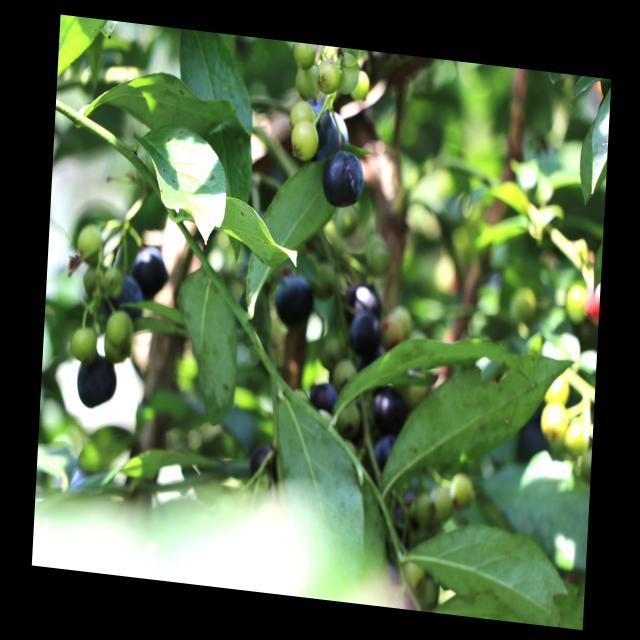blueberry: (319, 147, 368, 210), (75, 354, 118, 411), (130, 241, 170, 295), (274, 272, 313, 327), (346, 303, 384, 357), (312, 108, 348, 158), (112, 272, 145, 322), (371, 384, 404, 433), (250, 448, 285, 487), (308, 379, 338, 412)
blueberry-unripe: (290, 118, 320, 163), (77, 222, 106, 266), (314, 56, 340, 95), (336, 54, 360, 96), (107, 312, 134, 349), (71, 324, 98, 361), (294, 65, 321, 100), (290, 100, 317, 127), (292, 42, 317, 70), (352, 69, 371, 102)
